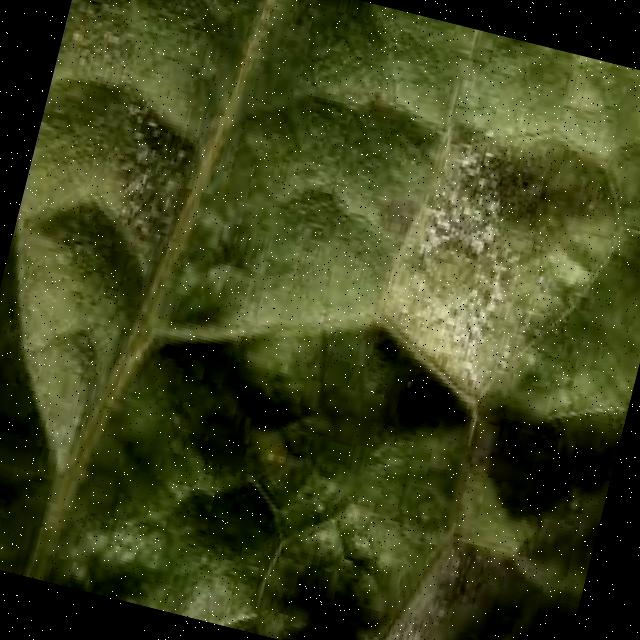Powdery_mildew_on_lettuce: (257, 39, 634, 640)
